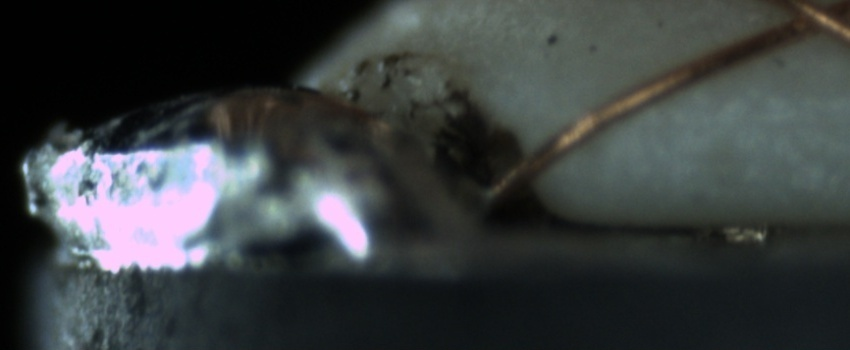CL: (763, 1, 848, 46)
